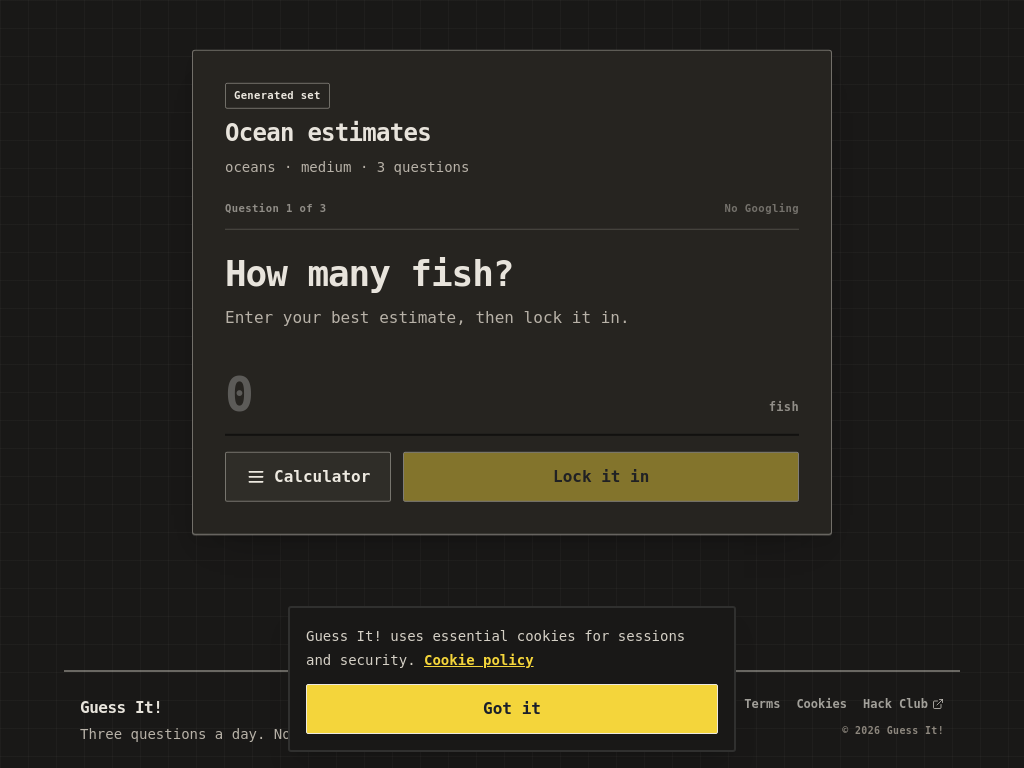
Test: source-aware solo routes › loads generated play without revealing private details and submits its source
Type "50" into the field named "Guess in fish".
click(491, 394); type("50")  # box [225,362,757,426]
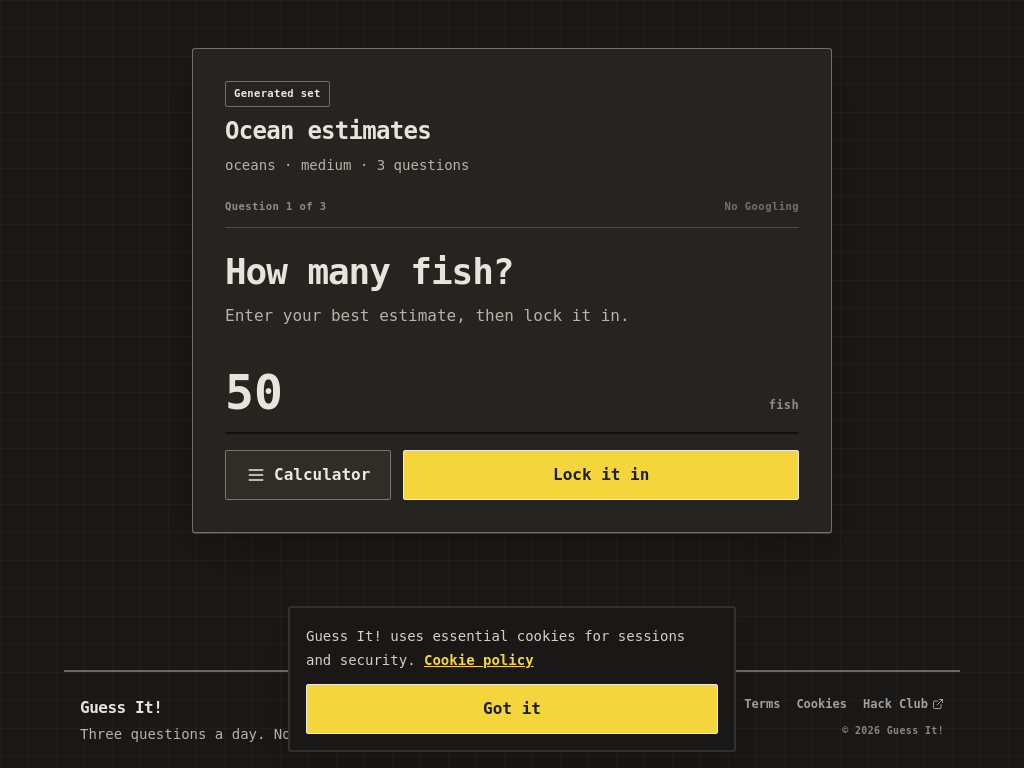
Expected: the heading "Ocean estimates" is shown, [225,117,431,145]
Expected: the text "oceans · medium · 3 questions" is shown, [225,157,470,173]
Click the button "Lock it in".
click(601, 475)  # box [403,450,799,500]
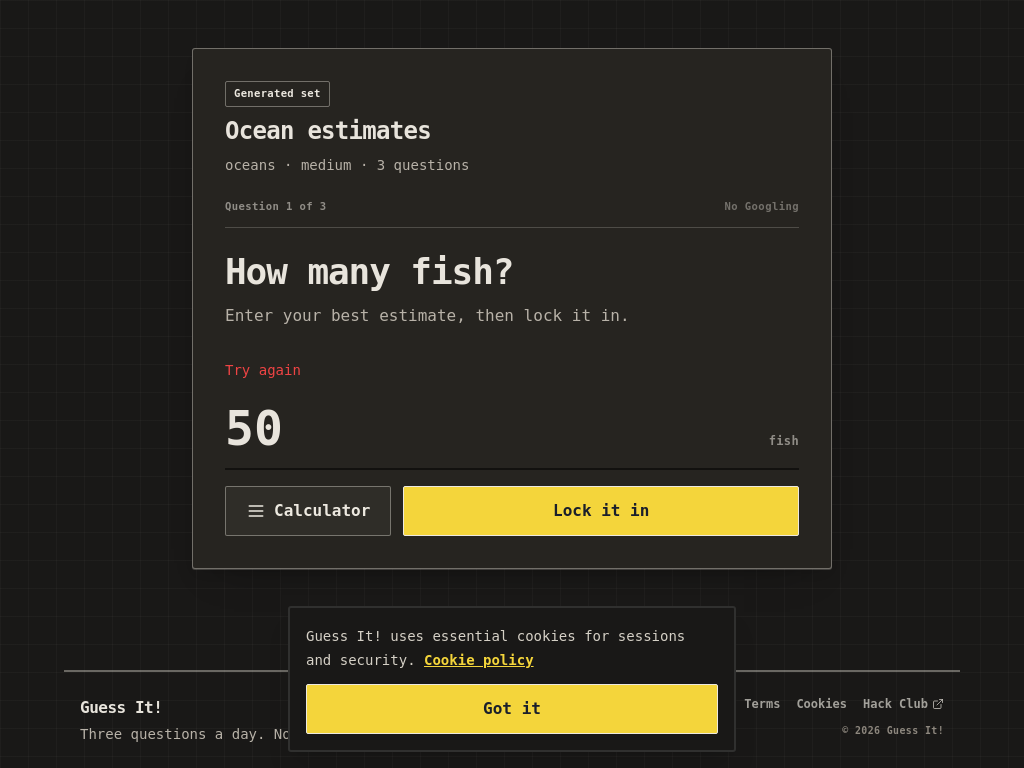
Now the message "Try again" is shown, box [225,362,301,378]
